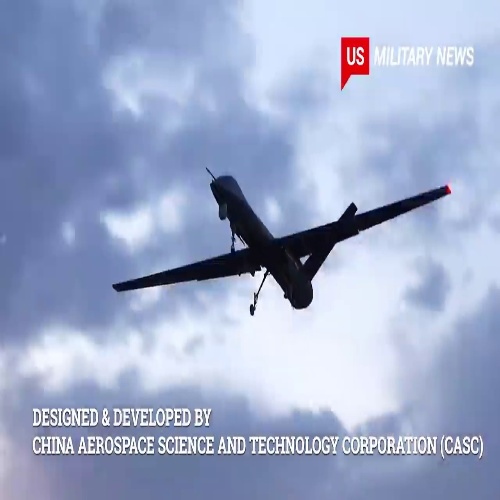uav527: (113, 167, 453, 316)
